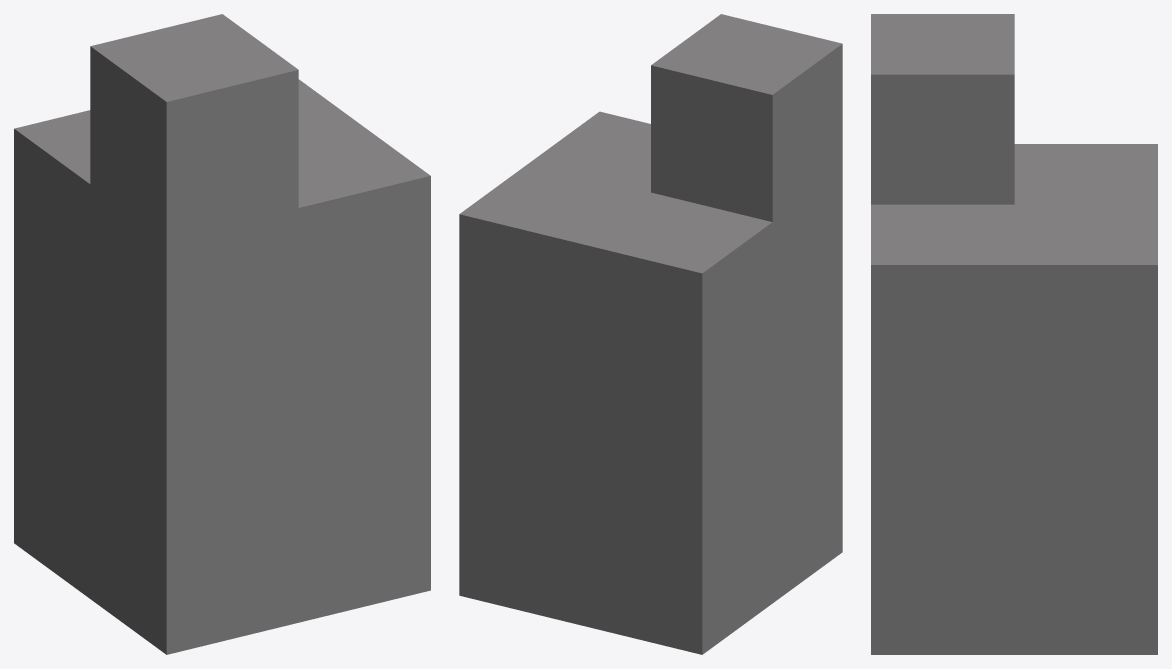
File: kitten__leg_fr.glb
3 renders of one model, left to right at view 1: azimuth 30°, elevation 25°; view 2: azimuth 150°, elevation 25°; view 3: azimuth 270°, elevation 25°, orthographic. The views are drawn at different scales.
Visible parts, largest first — view 1: kitten__leg_fr; view 2: kitten__leg_fr; view 3: kitten__leg_fr.
Part boxes in pixels (<box>): kitten__leg_fr: <box>14,14,430,654</box>; kitten__leg_fr: <box>459,14,842,654</box>; kitten__leg_fr: <box>871,14,1157,654</box>.
Size of the model in its own units: 0.2 by 0.4 by 0.2.
1 material, 1 textured.
